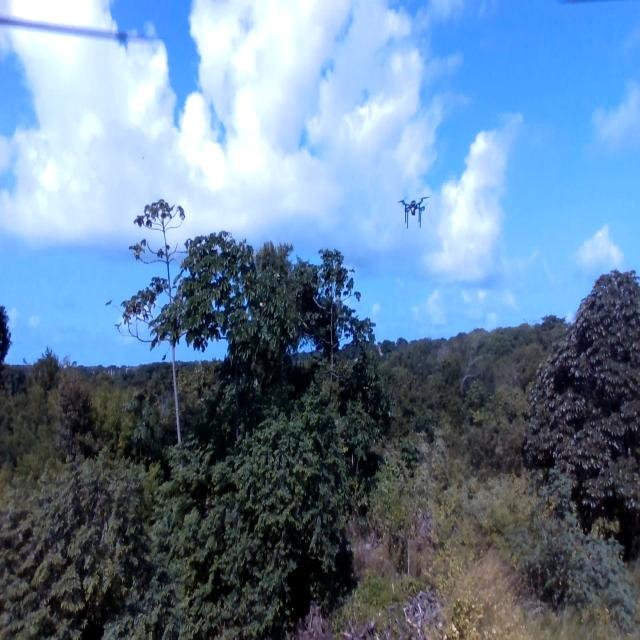-uav-: (393, 185, 434, 237)
